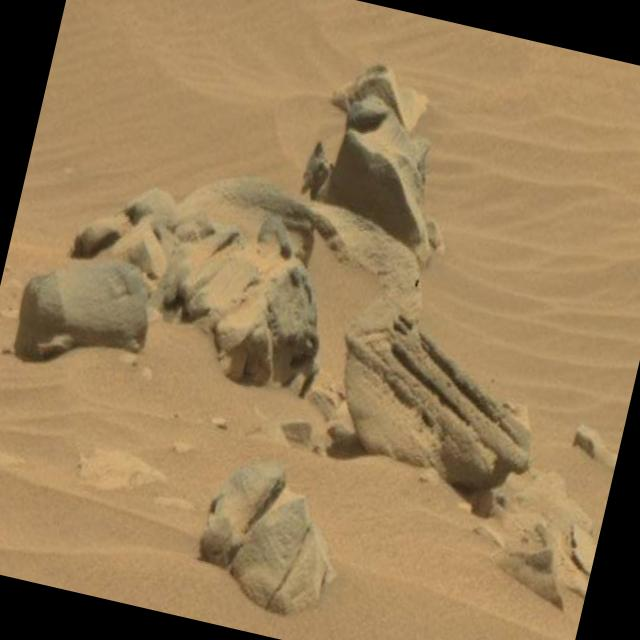red-sand: (10, 0, 640, 426), (0, 395, 551, 640)
stone: (74, 179, 320, 396), (346, 299, 530, 491), (317, 64, 441, 264), (14, 262, 149, 356)
